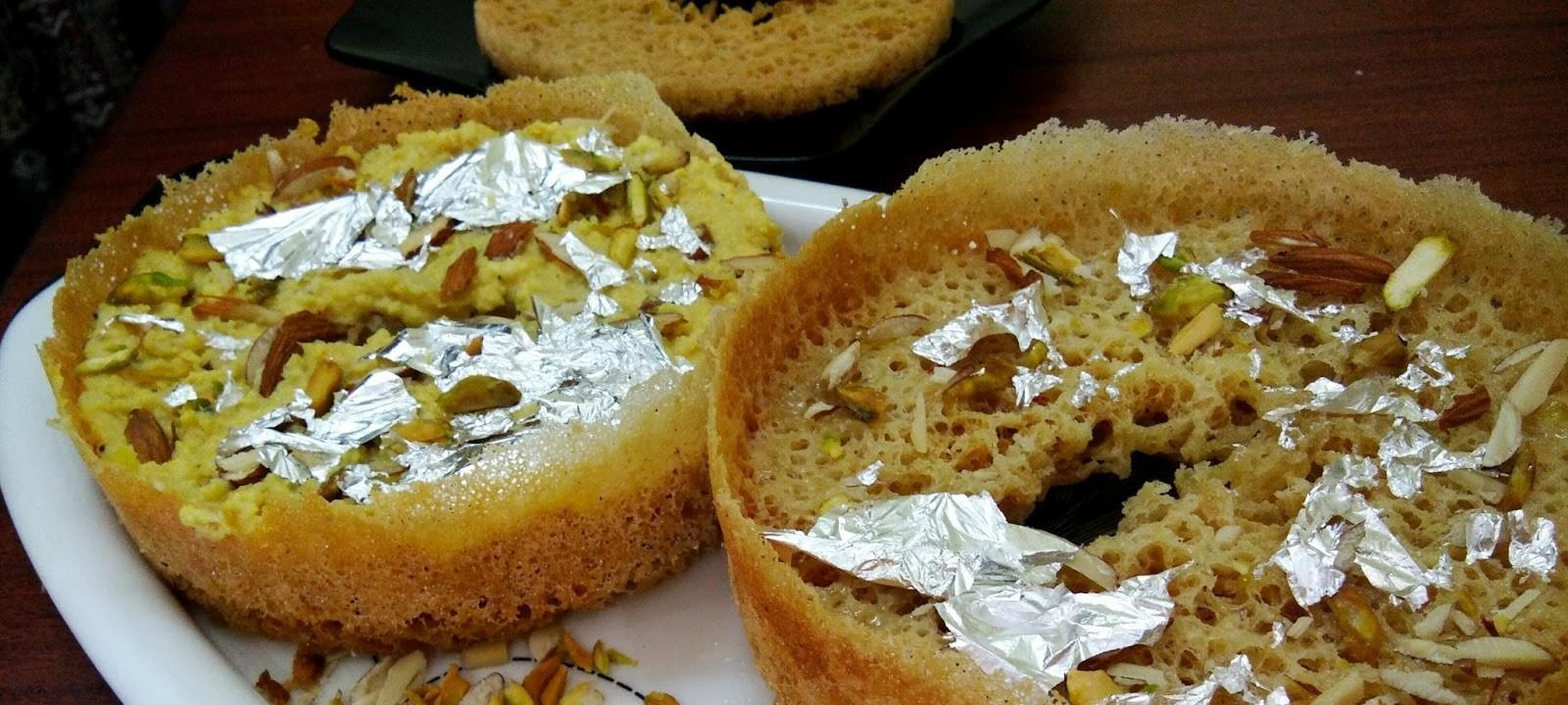Ghevar: (706, 109, 1568, 705), (40, 73, 782, 638), (469, 0, 959, 115)
